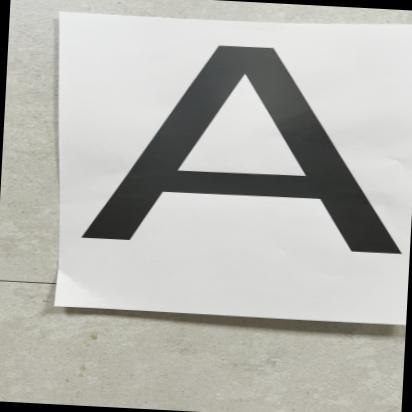seat: (61, 23, 412, 290)
